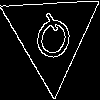Q: (26, 10, 78, 73)
